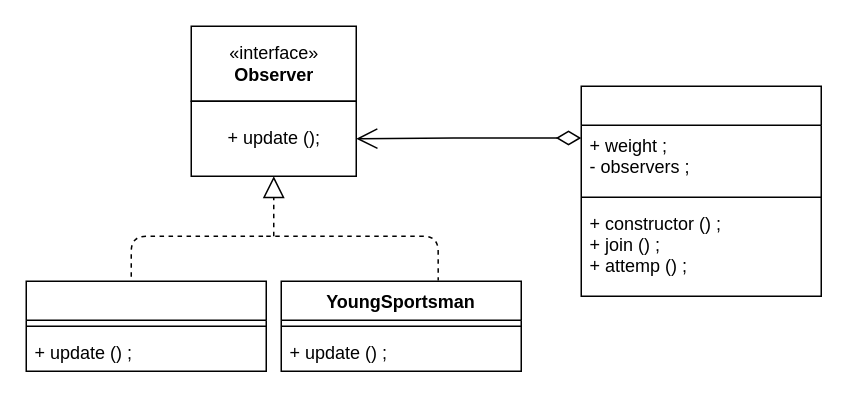
The diagram is 848 pixels wide and 402 high, and some of its shapes have lost their labels. Each missing label, with the box of its shape:
MainCompetition: (580, 85, 821, 296)
OldSportsman: (25, 280, 266, 371)
